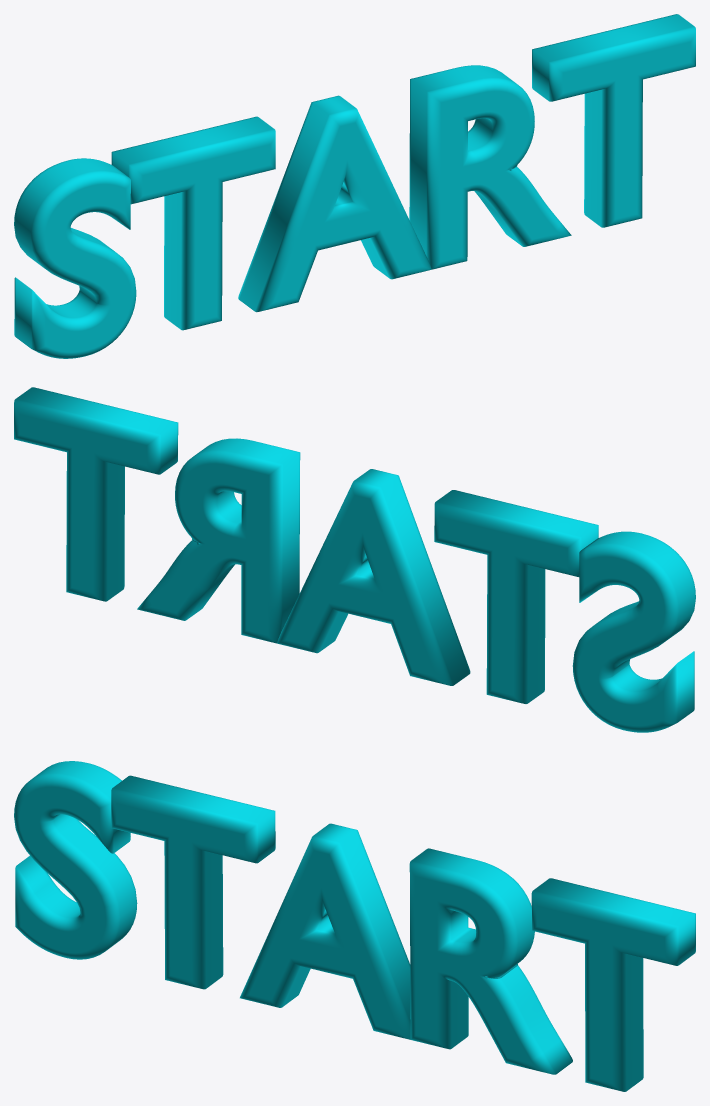
File: Start.fbx
3 views of the same model, one above another, from view 1: azimuth 30°, elevation 25°; view 2: azimuth 150°, elevation 25°; view 3: azimuth 330°, elevation 25° (orthographic).
Parts seen in each view (by area): view 1: Text; view 2: Text; view 3: Text.
Boxes of the visible parts, <box> form: Text: <box>14,14,695,358</box>; Text: <box>14,387,695,732</box>; Text: <box>14,761,695,1091</box>.
Size of the model in its own units: 296 by 78.1 by 20.57.
